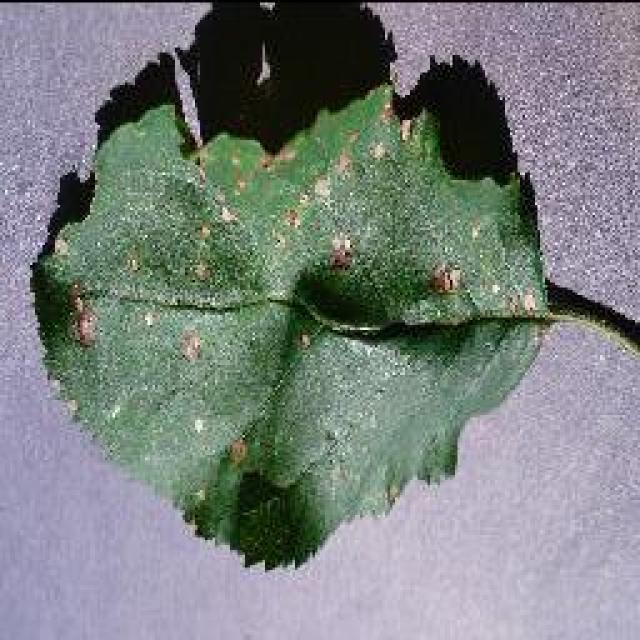apple black rot: (24, 0, 637, 572)
